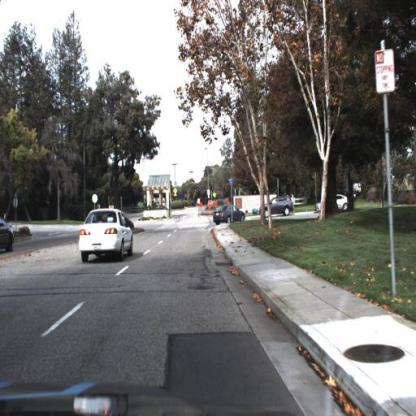car: (75, 205, 135, 263), (258, 194, 296, 220), (211, 202, 246, 224), (314, 192, 348, 212), (320, 194, 350, 212), (0, 216, 14, 254)
